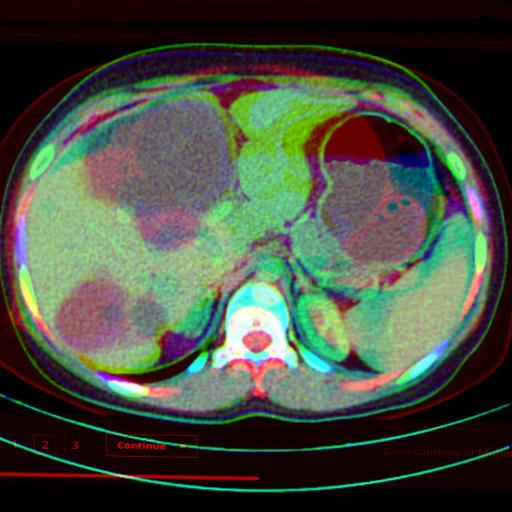Cyst: (85, 99, 234, 248), (129, 300, 162, 337)
